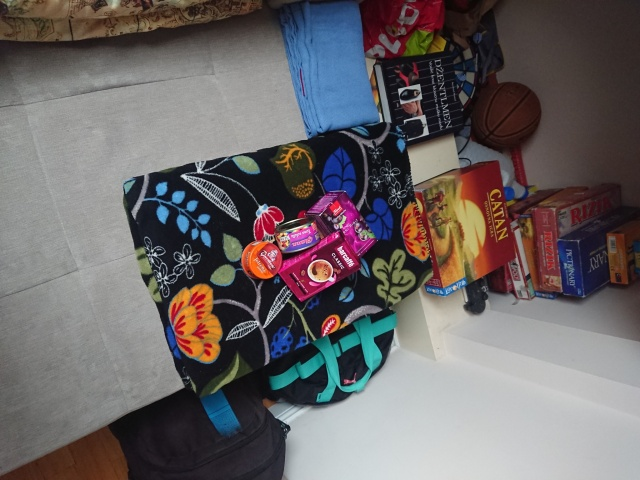Barcaffe Classic Original 225g: (276, 226, 364, 304)
Franck Black Currant Tea 60g: (303, 188, 380, 263)
Gavrilovic Pork Liver Pate 100g: (239, 239, 284, 282)
Giana Tuna Salad Mexico 185g: (273, 215, 323, 255)
